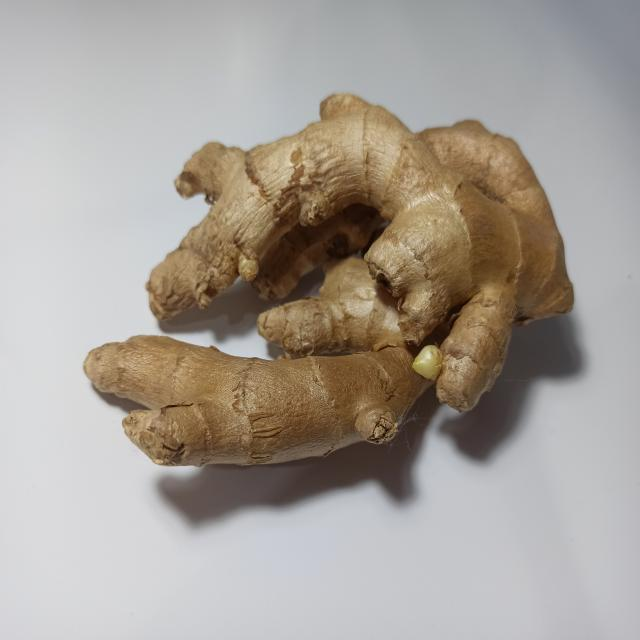ginger: (91, 107, 564, 448)
